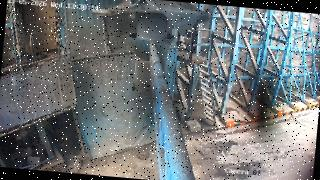swing_chute: (129, 33, 174, 97)
